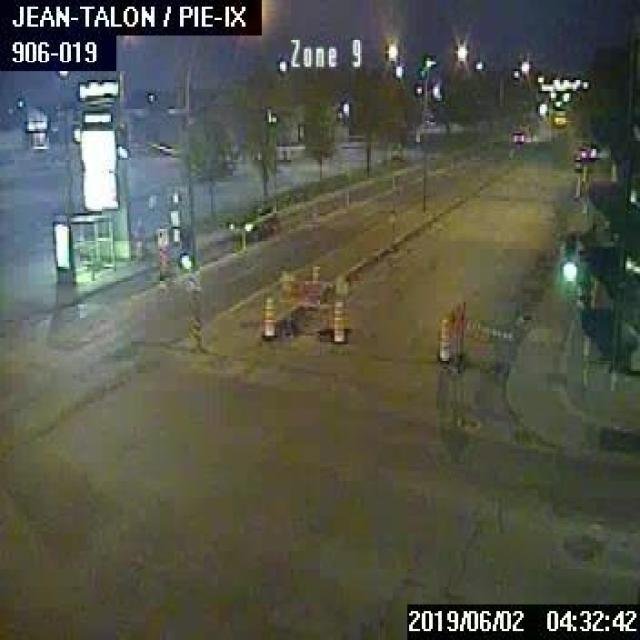construction: (276, 266, 347, 343), (446, 298, 516, 372), (435, 314, 450, 364), (330, 300, 346, 345), (260, 298, 276, 338)
vehicle: (226, 204, 274, 238), (509, 126, 524, 144)
